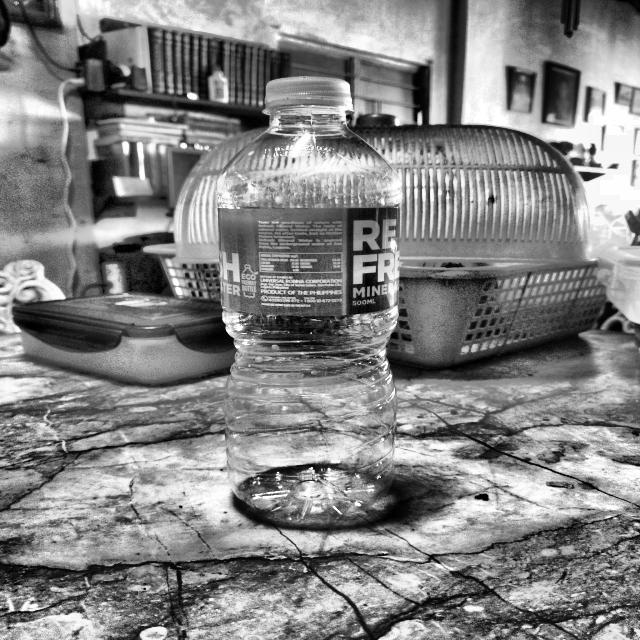Plastic-Bottle: (213, 75, 404, 529)
